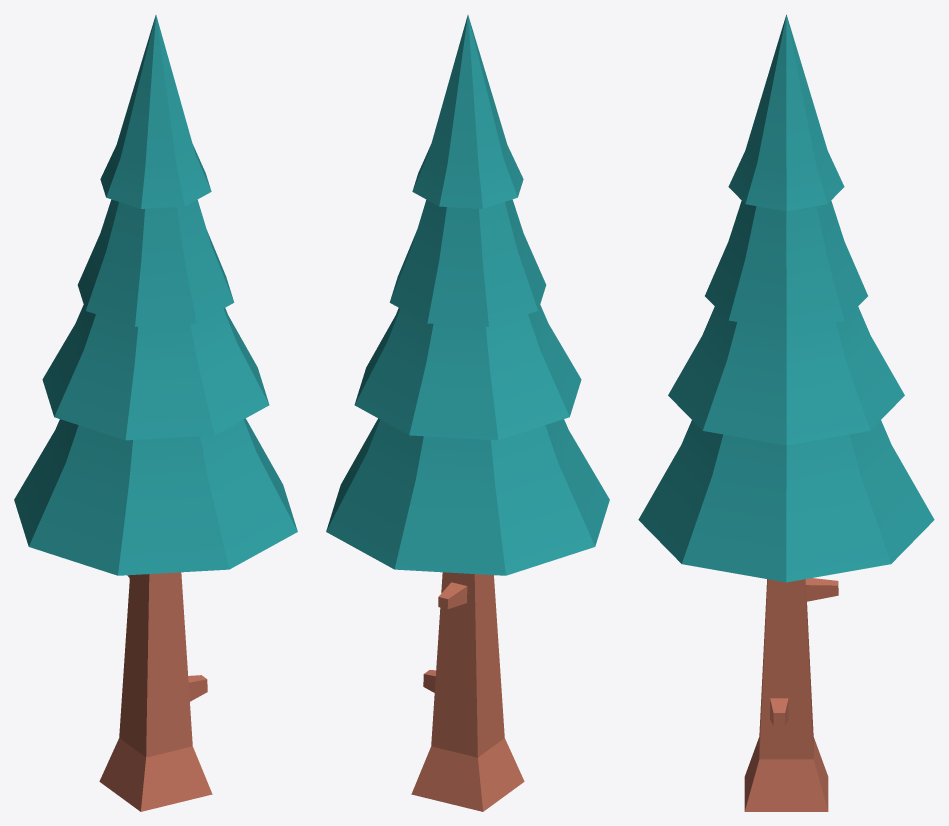
File: pino.glb
3 views of the same model, side by side, from view 1: azimuth 30°, elevation 25°; view 2: azimuth 150°, elevation 25°; view 3: azimuth 270°, elevation 25° (orthographic).
Visible parts, largest first — view 1: pino; view 2: pino; view 3: pino.
Boxes of the visible parts, x1,y1,x2,y2 form: pino: (14, 15, 297, 811); pino: (326, 15, 609, 811); pino: (638, 14, 934, 811).
Size of the model in its own units: 3.61 by 10.5 by 3.61.
Materials: 1 (1 with a texture image).
